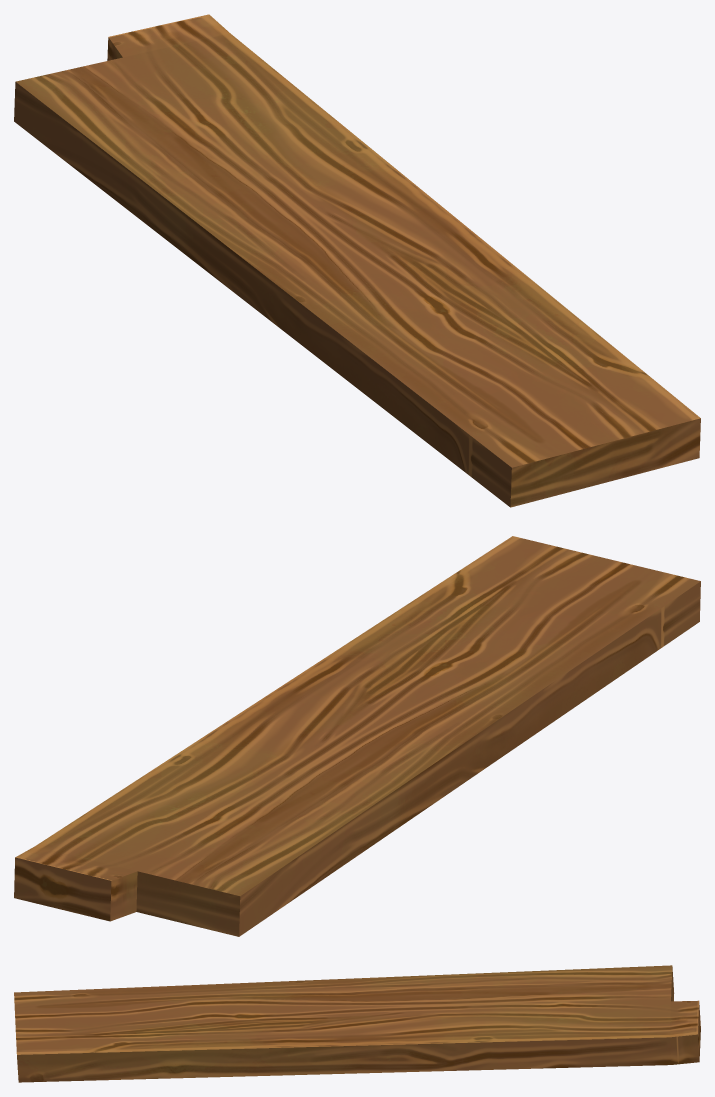
3 renders of one model, top to bottom at view 1: azimuth 30°, elevation 25°; view 2: azimuth 150°, elevation 25°; view 3: azimuth 270°, elevation 25°, orthographic. The views are drawn at different scales.
Parts seen in each view (by area): view 1: Cube.881; view 2: Cube.881; view 3: Cube.881.
Boxes of the visible parts, x1,y1,x2,y2 form: Cube.881: [14, 14, 700, 507]; Cube.881: [14, 536, 700, 936]; Cube.881: [14, 965, 700, 1082].
Size of the model in its own units: 58.38 by 20.36 by 240.
Materials: 1 (1 with a texture image).
